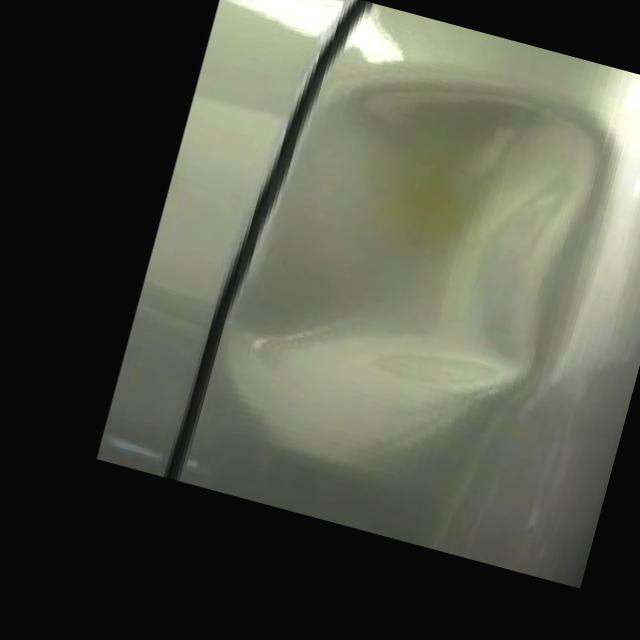dent: (188, 29, 630, 520)
